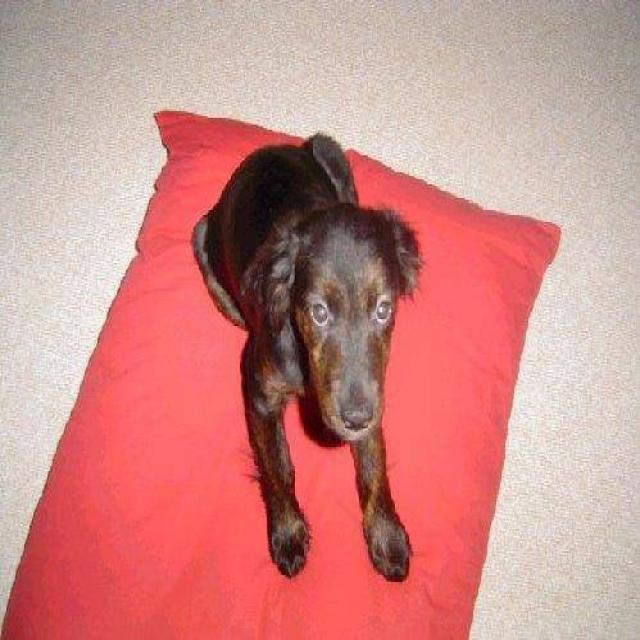Dog: (243, 184, 438, 465)
